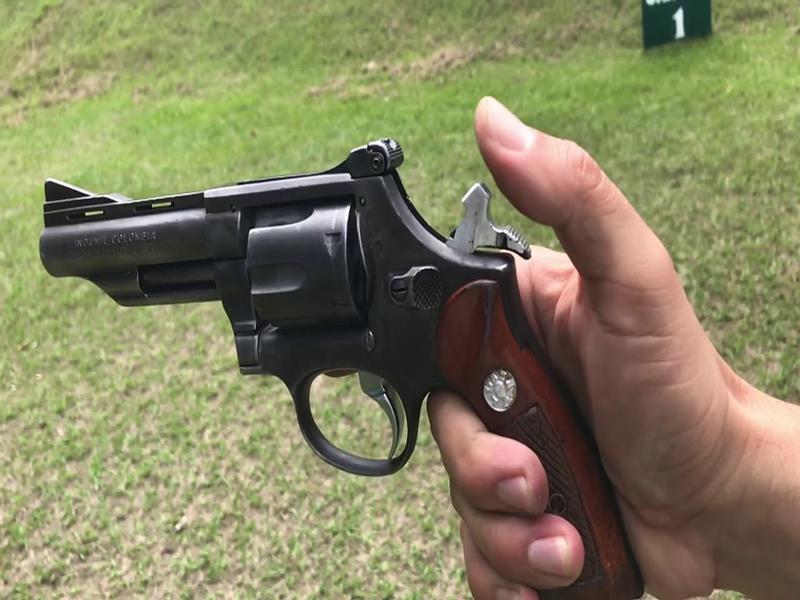Revolver: (19, 133, 628, 574)
